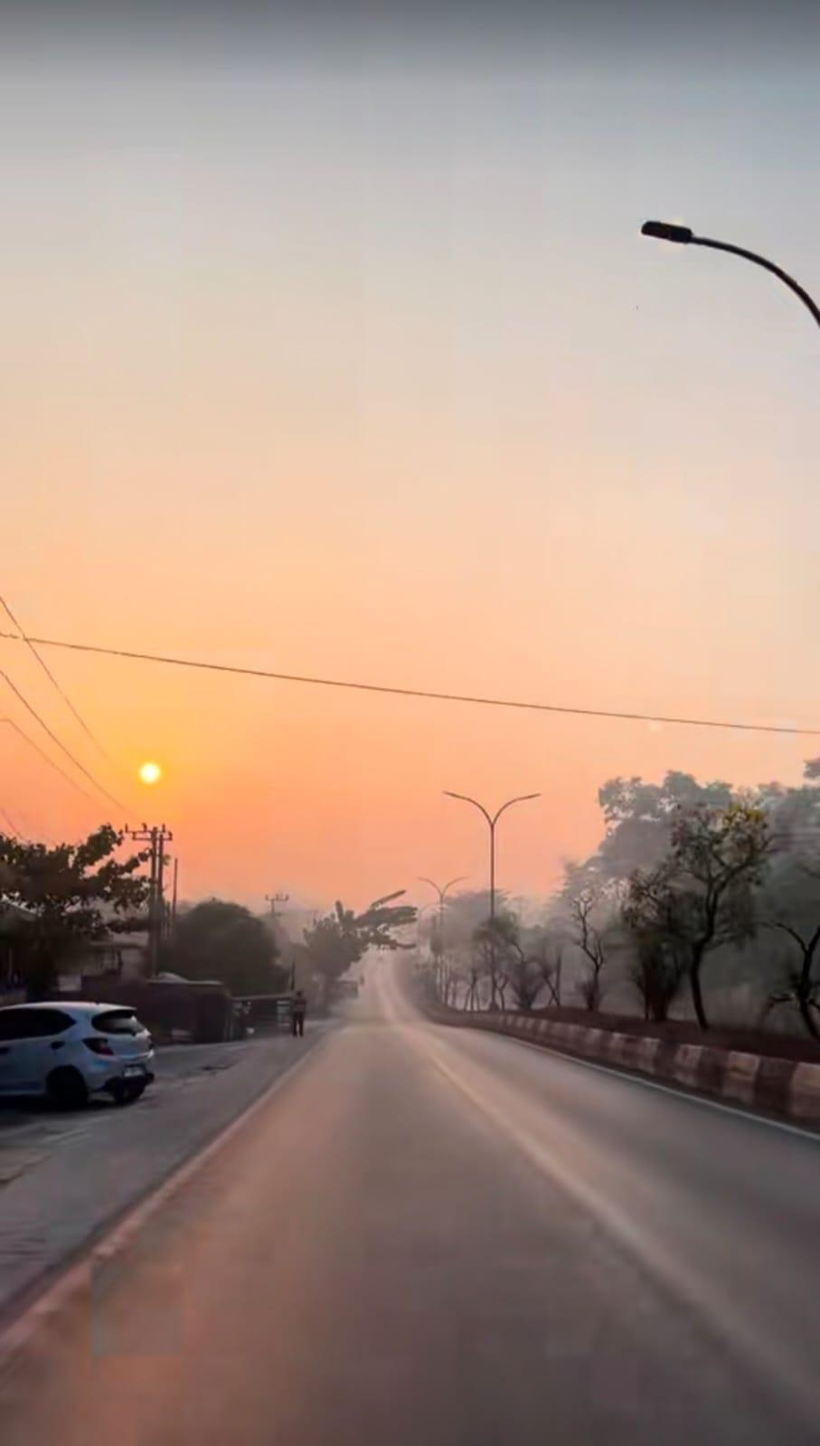Deteksi-Objek-Citra-Berasap: (227, 831, 637, 1027)
Gedung: (111, 973, 291, 1044), (0, 926, 157, 1002)
Kendaraan: (0, 1001, 156, 1111)
Manusia: (289, 990, 306, 1038)
Vegetasi: (596, 769, 820, 1037), (0, 823, 151, 1001), (426, 884, 599, 1016), (293, 888, 421, 1016), (165, 895, 290, 997)
